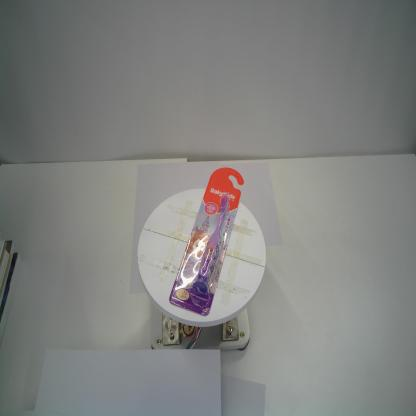Personal Hygiene: (168, 165, 245, 317)
